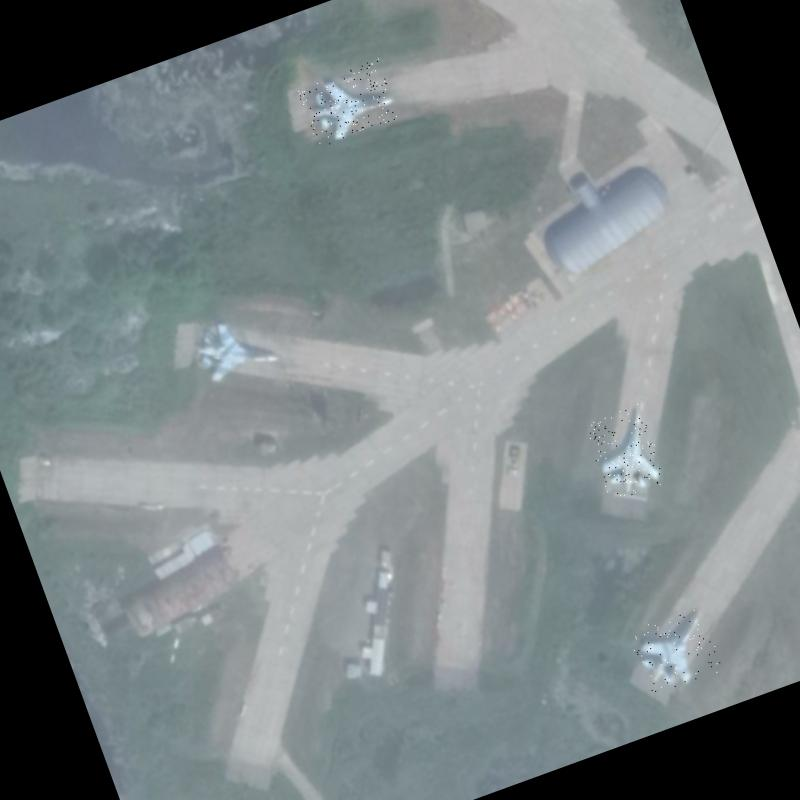A1: (626, 602, 724, 698), (296, 58, 400, 148), (582, 402, 668, 502), (184, 303, 282, 387)
